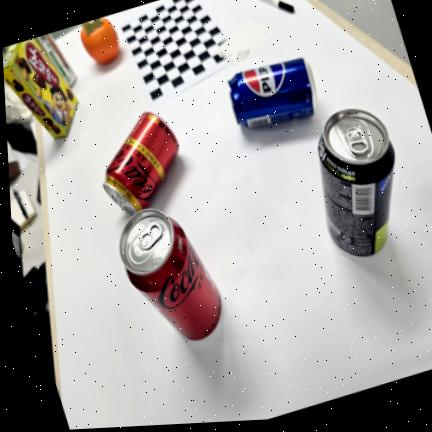can_coke_decaf: (103, 112, 178, 214)
can_coke_zero: (119, 208, 221, 339)
can_pepsi: (227, 58, 316, 128)
can_pepsi_zero: (318, 108, 395, 256)
